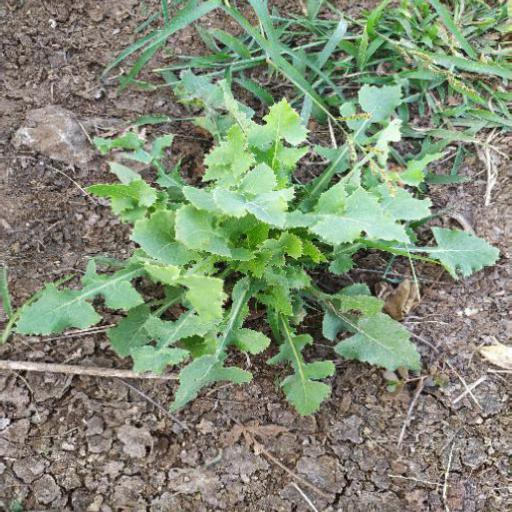weed: (27, 93, 500, 405)
